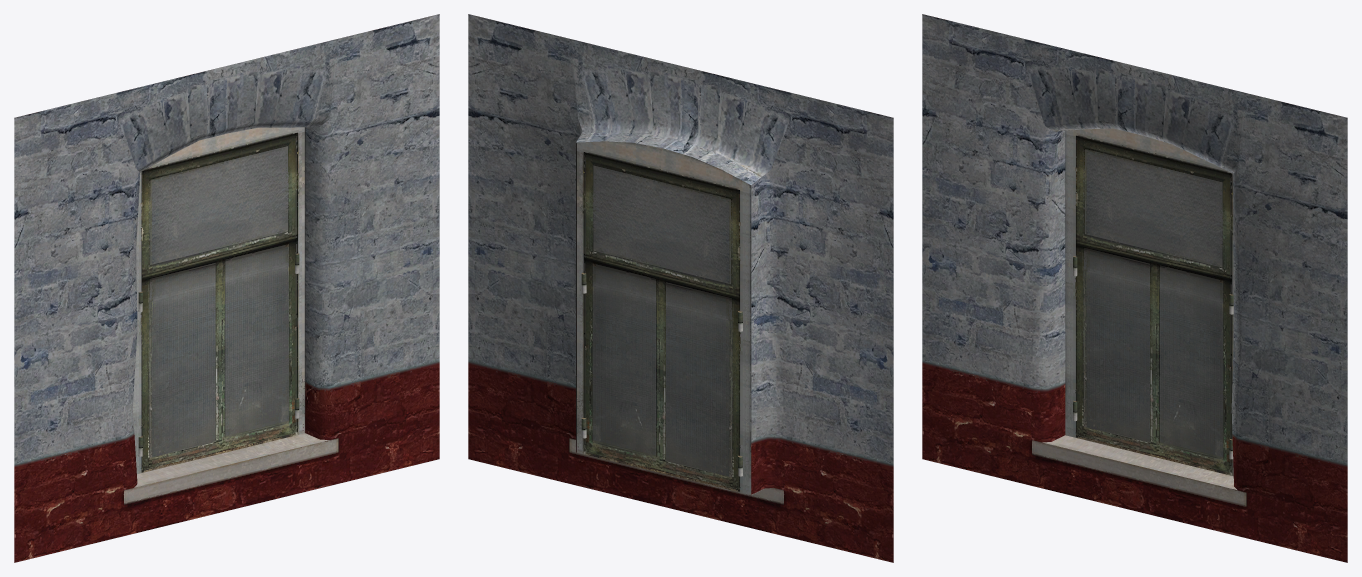
File: factory_corridor_03.DAE
The picture shows the model from 3 angles, left to right: view 1: azimuth 30°, elevation 25°; view 2: azimuth 150°, elevation 25°; view 3: azimuth 330°, elevation 25°; orthographic projection.
Visible parts, largest first — view 1: Object046, Box058; view 2: Object046, Box058; view 3: Object046, Box058.
Boxes of the visible parts, x1,y1,x2,y2 form: Object046: (14,14,439,516); Box058: (14,39,439,562); Object046: (468,14,893,516); Box058: (468,39,893,562); Object046: (922,14,1347,516); Box058: (922,37,1347,562).
Bounding box in the file's own units: 4 × 4 × 0.2395.
